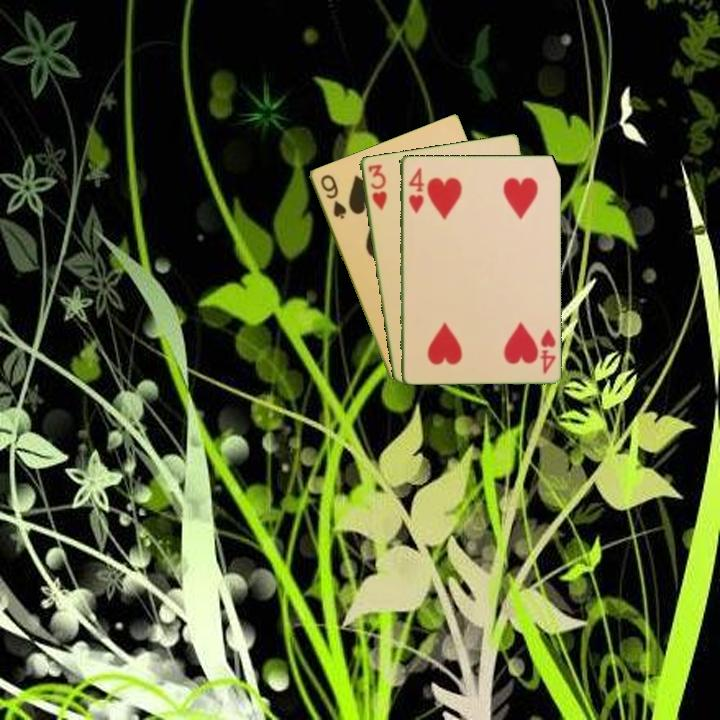3h: (364, 160, 389, 213)
4h: (537, 325, 558, 376), (405, 164, 425, 216)
9s: (316, 171, 349, 222)
